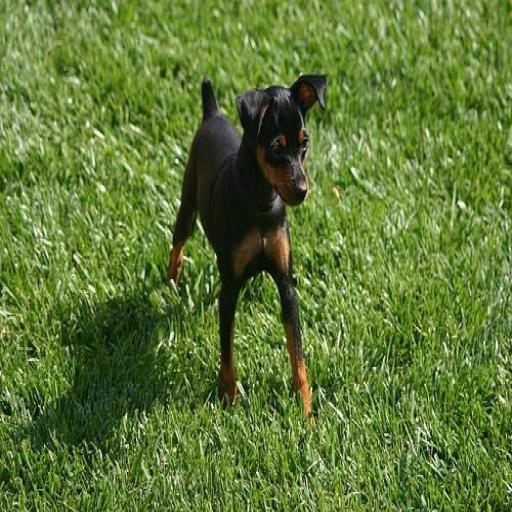dog_face: (230, 79, 324, 211)
